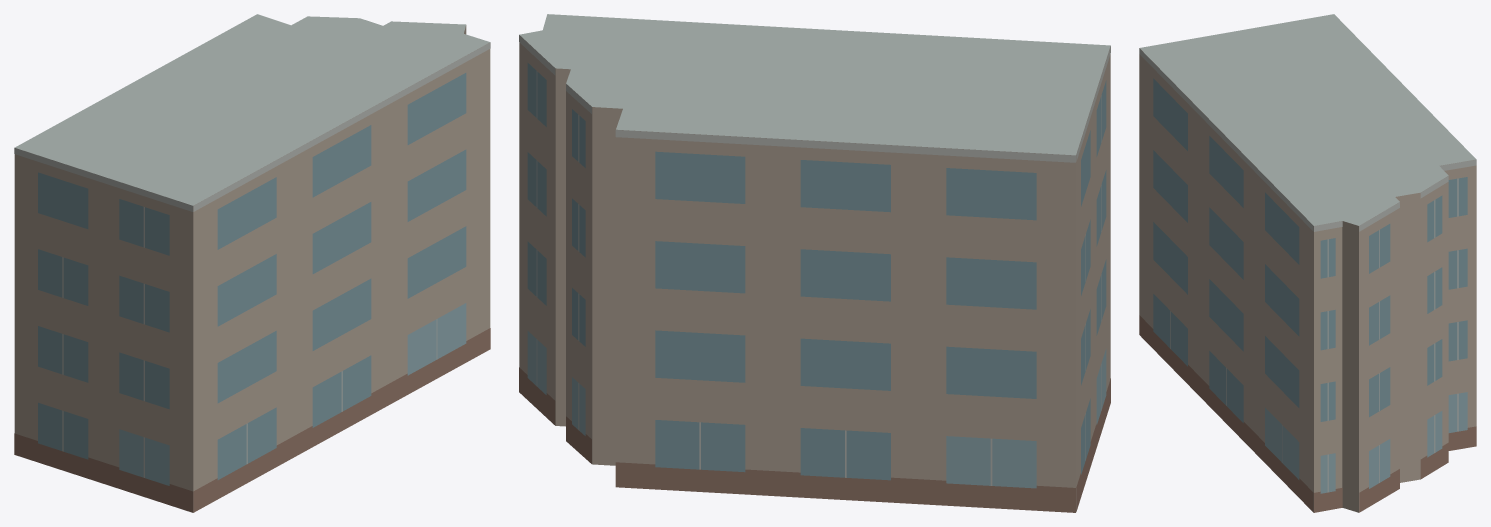
Rendered from survey-upis-32729250.glb.
3 views of the same model, side by side, from view 1: azimuth 30°, elevation 25°; view 2: azimuth 150°, elevation 25°; view 3: azimuth 270°, elevation 25° (orthographic). The views are drawn at different scales.
Visible parts, largest first — view 1: survey-upis-32729250.tmp; view 2: survey-upis-32729250.tmp; view 3: survey-upis-32729250.tmp.
Part boxes in pixels (x1,y1,x2,y2): survey-upis-32729250.tmp: (14,14,490,512); survey-upis-32729250.tmp: (519,14,1110,512); survey-upis-32729250.tmp: (1139,14,1476,512).
Bounding box in the file's own units: 18.55 × 11.7 × 12.47.
